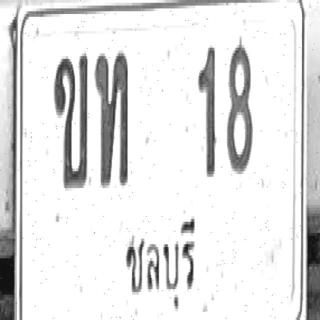A02: (53, 52, 88, 190)
A23: (94, 49, 129, 187)
N01: (197, 45, 216, 177)
N08: (226, 41, 253, 173)
P13: (119, 206, 198, 309)
